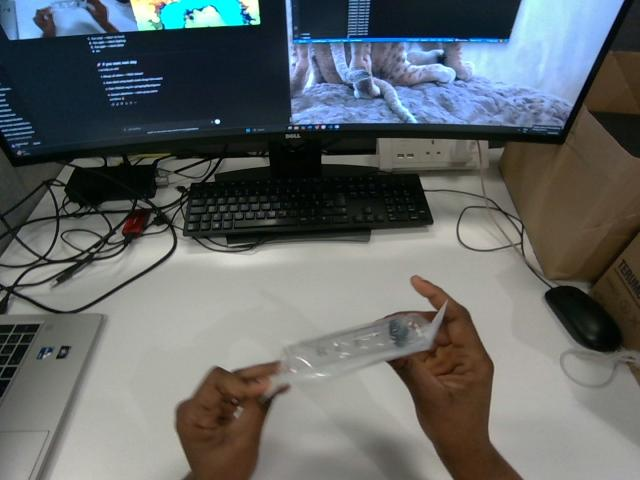syringe: (271, 303, 445, 389), (50, 0, 87, 11)
